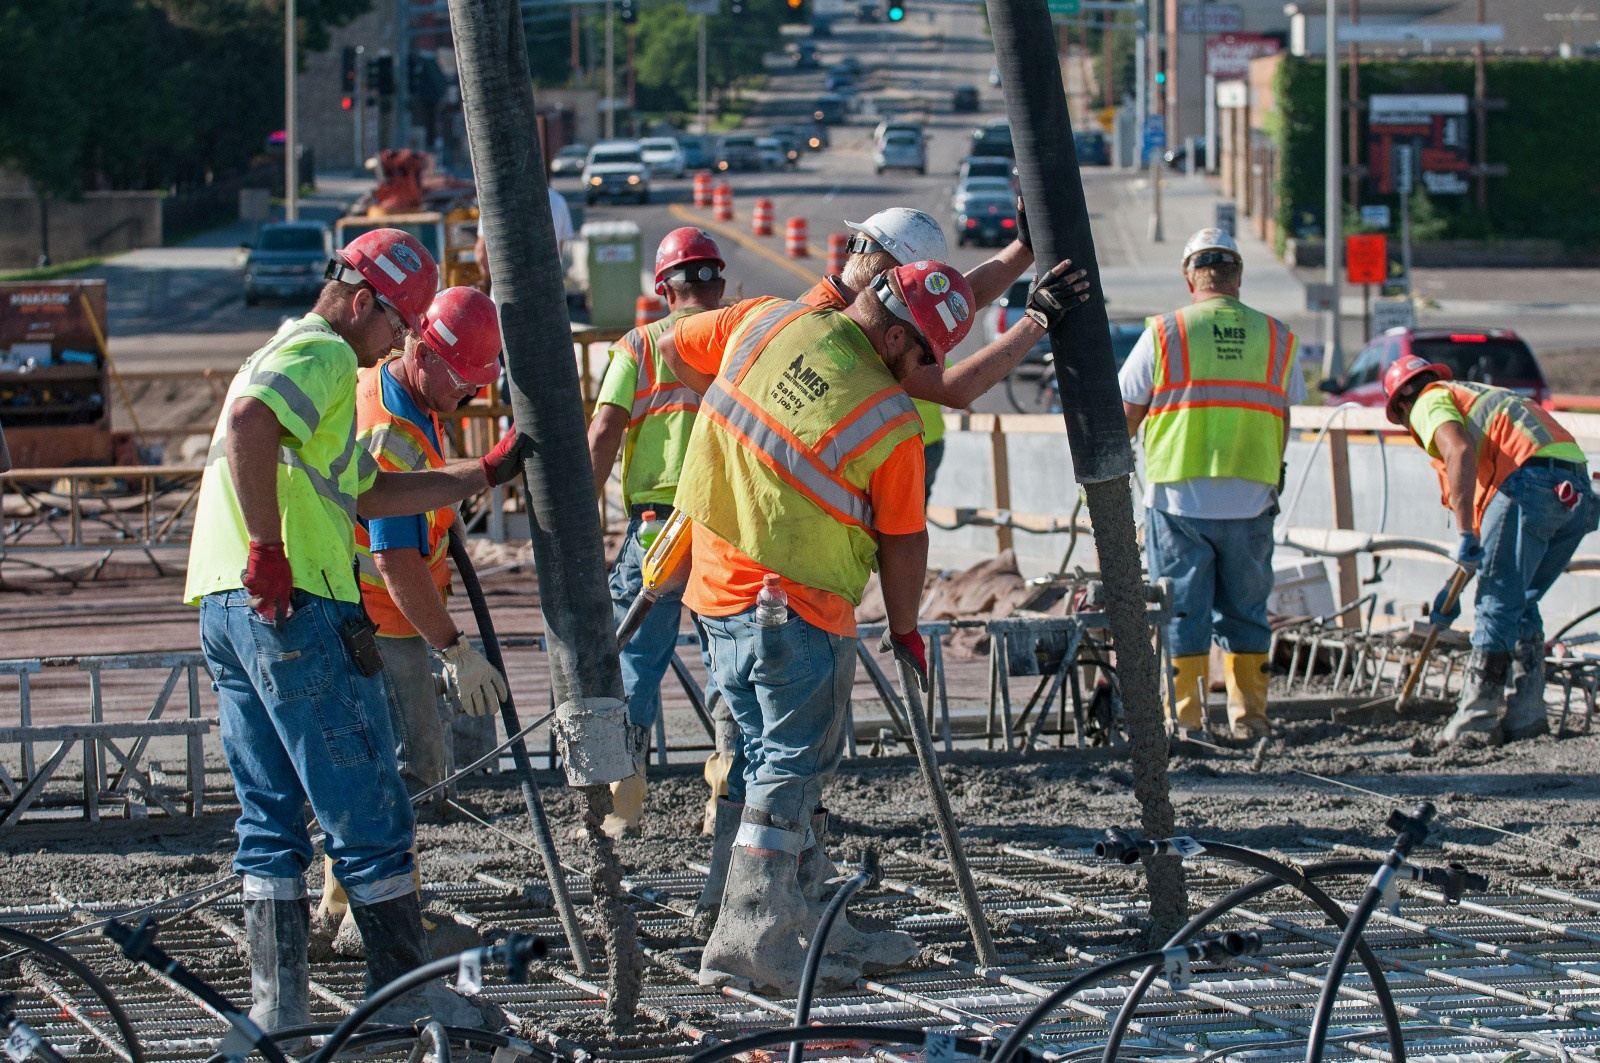red: (321, 225, 438, 362), (858, 261, 980, 375), (402, 284, 502, 409), (651, 227, 728, 304), (1378, 354, 1442, 424)
white: (844, 205, 949, 284), (1183, 224, 1242, 294)
